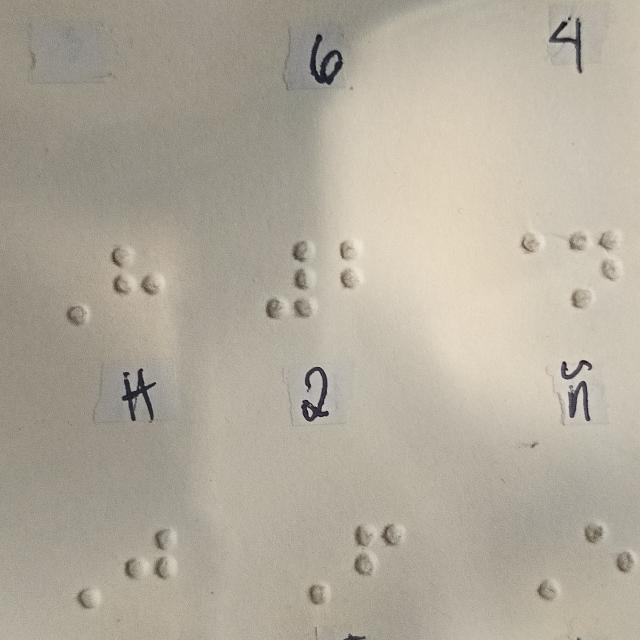capital_sign: (47, 527, 106, 612), (33, 246, 92, 330), (274, 524, 333, 608), (504, 520, 563, 604)
digit_2: (334, 235, 393, 320)
dot_4: (488, 229, 547, 314)
letter_E: (581, 523, 640, 607)
letter_F: (350, 521, 409, 605)
letter_H: (107, 245, 166, 330)
letter_J: (123, 524, 182, 609)
letter_n: (566, 230, 625, 314)
number_sign: (263, 237, 322, 321)
